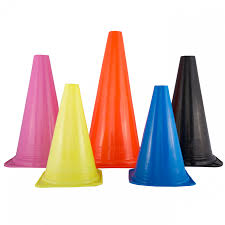cones: (129, 86, 196, 189), (90, 30, 139, 169), (40, 84, 104, 189), (5, 54, 58, 169), (170, 57, 224, 169)
